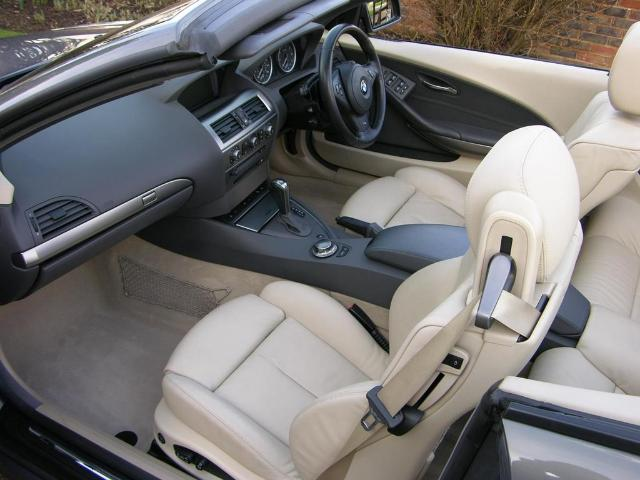Seatbelt: (318, 288, 542, 480)
